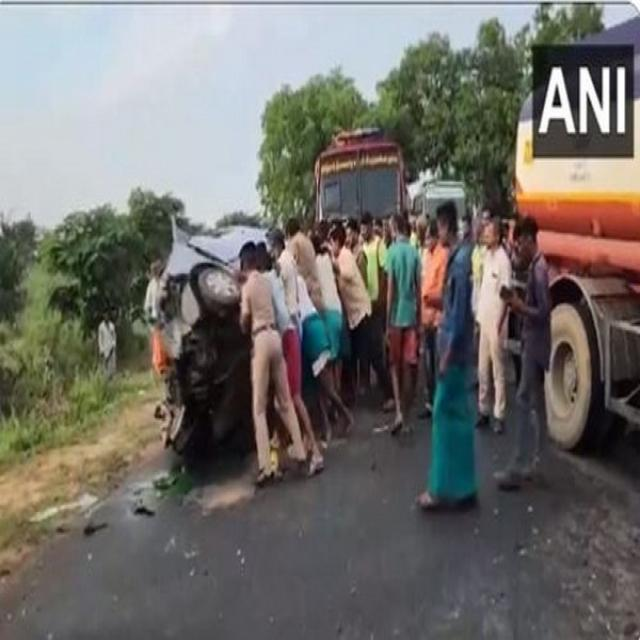accident: (150, 221, 264, 494)
